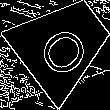O_NE: (31, 12, 96, 77)
